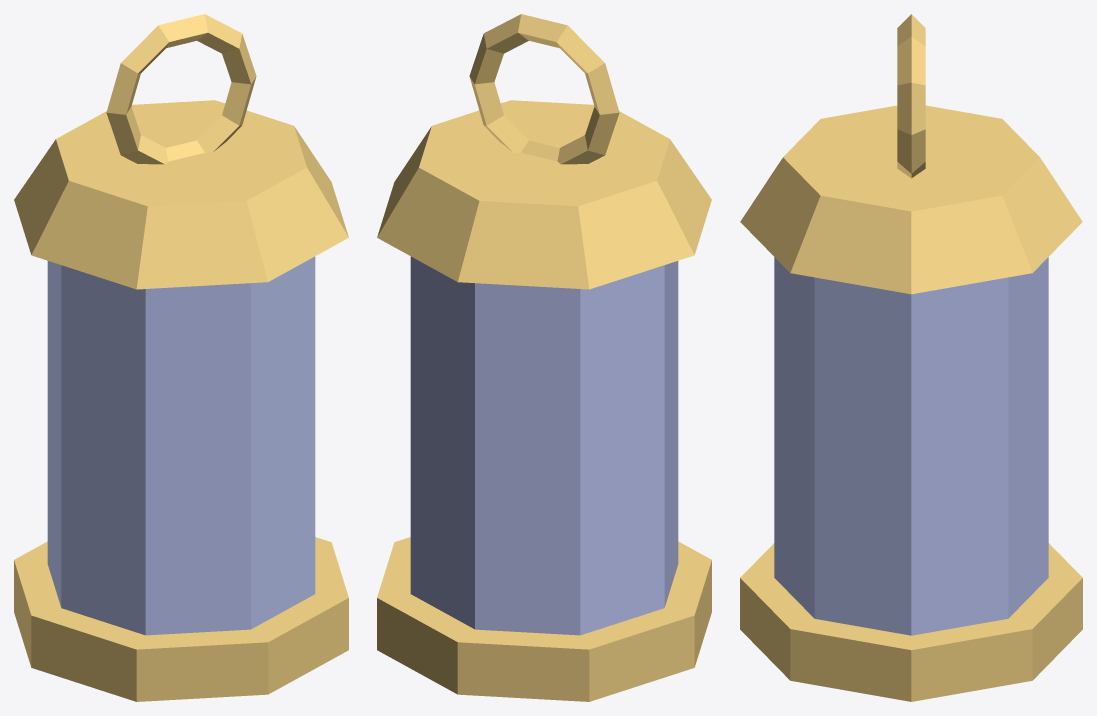
Rendered from lantern.fbx.
3 renders of one model, left to right at view 1: azimuth 30°, elevation 25°; view 2: azimuth 150°, elevation 25°; view 3: azimuth 270°, elevation 25°, orthographic.
Visible parts, largest first — view 1: lantern.Main, lantern.Gold; view 2: lantern.Main, lantern.Gold; view 3: lantern.Main, lantern.Gold.
Part boxes in pixels (x1=…): lantern.Main: x1=47, y1=256, x2=315, y2=635; lantern.Gold: x1=14, y1=14, x2=348, y2=701; lantern.Main: x1=410, y1=256, x2=678, y2=635; lantern.Gold: x1=377, y1=14, x2=711, y2=701; lantern.Main: x1=774, y1=257, x2=1048, y2=635; lantern.Gold: x1=740, y1=14, x2=1082, y2=701.
Size of the model in its own units: 1.2 by 2.34 by 1.2.
